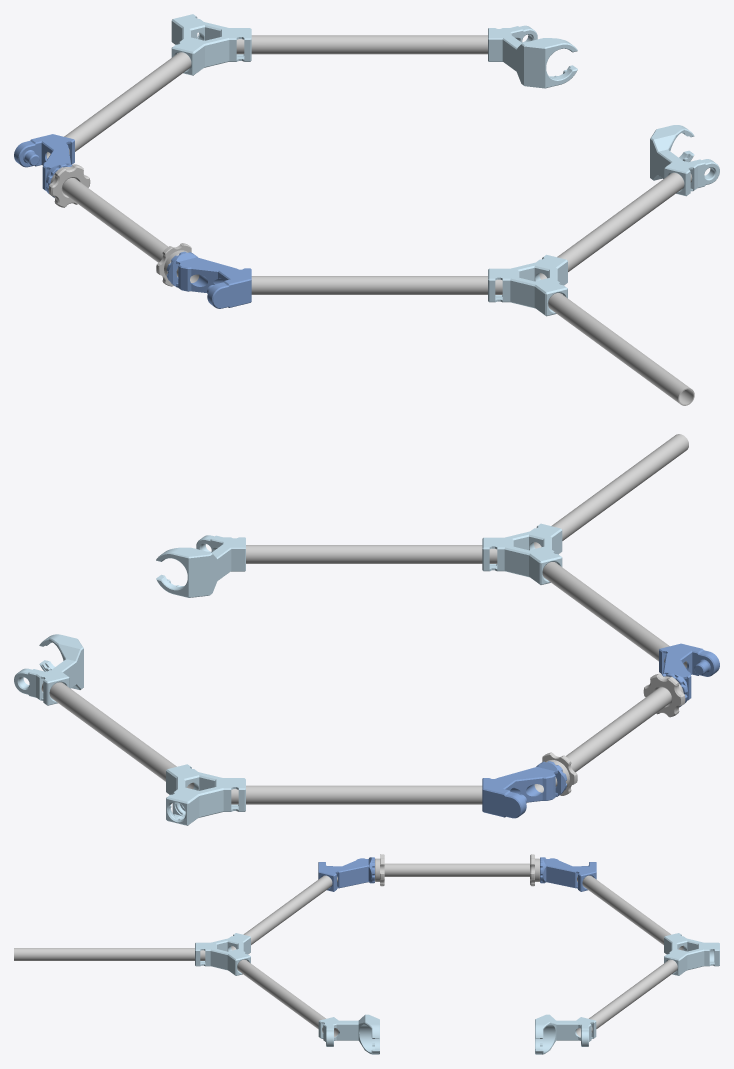
File: Hinge Hexagon.gltf
The picture shows the model from 3 angles, top to bottom: view 1: azimuth 30°, elevation 25°; view 2: azimuth 150°, elevation 25°; view 3: azimuth 270°, elevation 25°; orthographic projection. The views are drawn at different scales.
Visible parts, largest first — view 1: Small-Small Tube (×6), Part 1 (×4), Part 3 (×3); view 2: Small-Small Tube (×6), Part 1 (×4), Part 3 (×3); view 3: Small-Small Tube (×6), Part 1 (×4), Part 3 (×2).
Part boxes in pixels (bbox=[...]): Small-Small Tube (×6): bbox=[46, 35, 694, 405]; Part 1 (×4): bbox=[171, 14, 719, 316]; Part 3 (×3): bbox=[14, 134, 251, 308]; Small-Small Tube (×6): bbox=[41, 434, 688, 804]; Part 1 (×4): bbox=[14, 523, 562, 825]; Part 3 (×3): bbox=[482, 643, 719, 818]; Small-Small Tube (×6): bbox=[14, 863, 683, 1037]; Part 1 (×4): bbox=[195, 933, 719, 1054]; Part 3 (×2): bbox=[318, 857, 596, 891].
Bounding box in the file's own units: 0.8195 × 0.0608 × 1.35.
